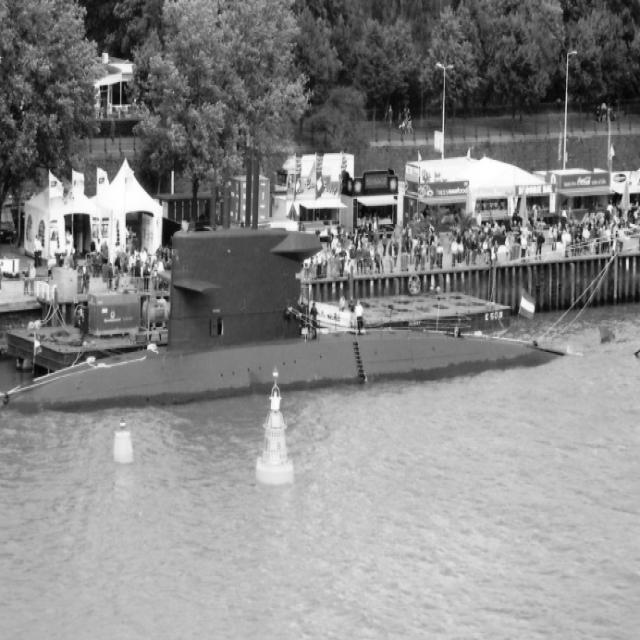submarine: (1, 228, 577, 417)
